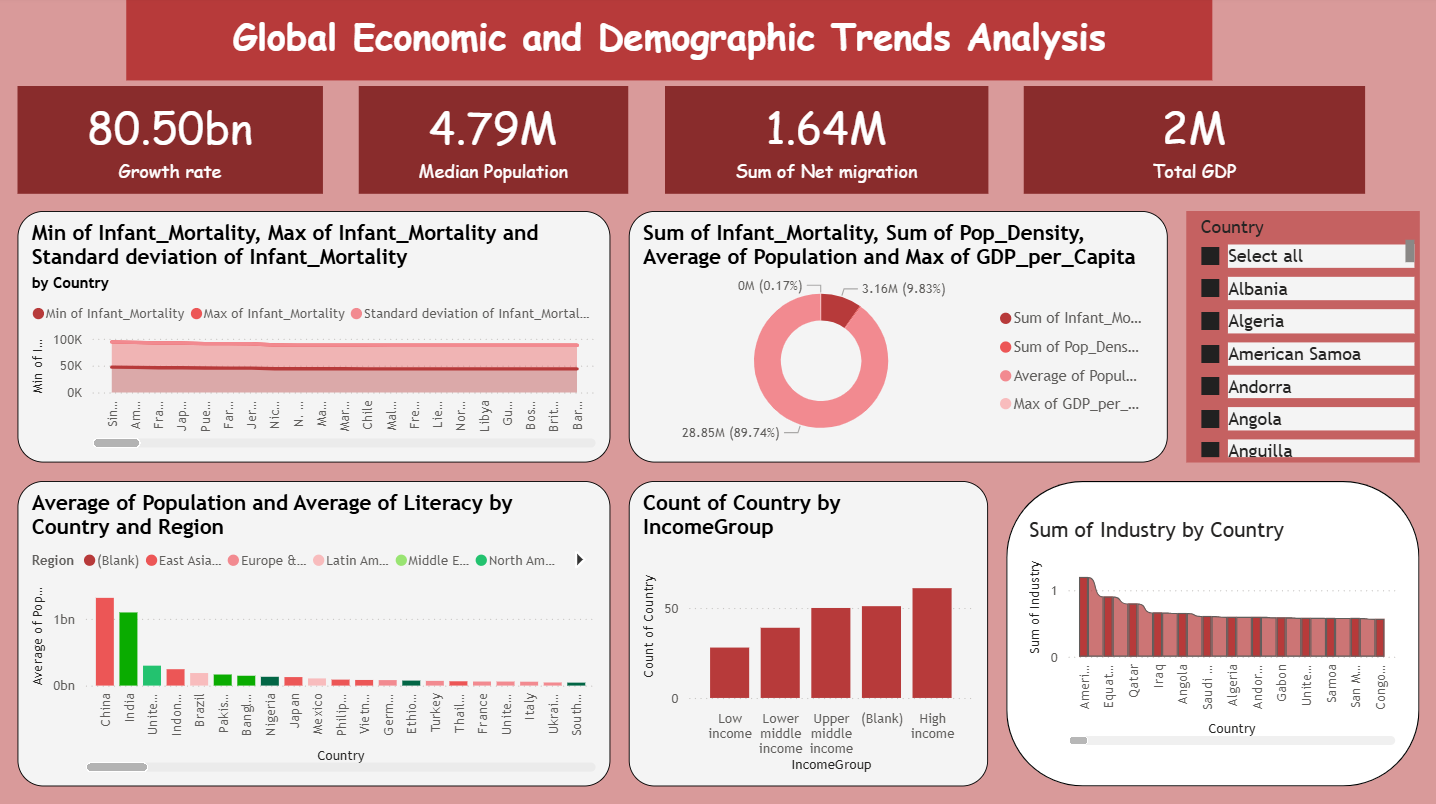

What the dashboard file says about the page in this screenshot:
{"tool":"powerbi","page":{"name":"DashBoard","canvas":[1280,720],"ordinal":0},"visuals":[{"type":"textbox","box":[112.5,0,967.4,75.5],"z":0},{"type":"card","fields":{"Values":["PopulationPerCountry.Growth rate"]},"box":[16,80,272,96],"z":1000},{"type":"card","fields":{"Values":["countries countries_world.Median Population"]},"box":[320,80,240,96],"z":2000},{"type":"card","fields":{"Values":["Sum(countries of the world.Net migration)"]},"box":[592,80,288,96],"z":3000},{"type":"card","fields":{"Values":["countries countries_world.Total GDP"]},"box":[912,80,304,96],"z":4000},{"type":"columnChart","fields":{"Category":["MetaData Country.Country"],"Y":["Avg(countries countries_world.Population)"],"Series":["MetaData Country.Region"]},"box":[16,432,528,272],"z":5000},{"type":"lineClusteredColumnComboChart","fields":{"Category":["MetaData Country.IncomeGroup"],"Y":["CountNonNull(countries of the world.Country)"]},"box":[560,432,320,272],"z":6000},{"type":"donutChart","fields":{"Y":["Sum(countries countries_world.Infant_Mortality)","Sum(countries countries_world.Pop_Density)","Avg(countries countries_world.Population)","Max(countries countries_world.GDP_per_Capita)"]},"box":[560,192,480,224],"z":7000},{"type":"stackedAreaChart","fields":{"Y":["Min(countries countries_world.Infant_Mortality)","Max(countries countries_world.Infant_Mortality)1","Sum(countries countries_world.Infant_Mortality)2"],"Category":["countries countries_world.Country"]},"box":[16,192,528,224],"z":8000},{"type":"slicer","fields":{"Values":["countries countries_world.Country"]},"box":[1056,192,208,224],"z":9000},{"type":"shape","box":[896,432,368,272],"z":10000},{"type":"ribbonChart","fields":{"Category":["countries countries_world.Country"],"Y":["Sum(countries countries_world.Industry)"]},"box":[912,464,336,208],"z":11000}]}

Visuals, with their boxes in screenshot pixels (x1, y1, x2, y2), scaled from the page's 1280x720 canvas onto the 1436x804 screenshot:
textbox: select_region(126, 0, 1212, 84)
card - PopulationPerCountry.Growth rate: select_region(18, 89, 323, 197)
card - countries countries_world.Median Population: select_region(359, 89, 628, 197)
card - Sum(countries of the world.Net migration): select_region(664, 89, 987, 197)
card - countries countries_world.Total GDP: select_region(1023, 89, 1364, 197)
columnChart - MetaData Country.Country x Avg(countries countries_world.Population): select_region(18, 482, 610, 786)
lineClusteredColumnComboChart - MetaData Country.IncomeGroup x CountNonNull(countries of the world.Country): select_region(628, 482, 987, 786)
donutChart - Sum(countries countries_world.Infant_Mortality) x Sum(countries countries_world.Pop_Density): select_region(628, 214, 1167, 465)
stackedAreaChart - Min(countries countries_world.Infant_Mortality) x Max(countries countries_world.Infant_Mortality)1: select_region(18, 214, 610, 465)
slicer - countries countries_world.Country: select_region(1185, 214, 1418, 465)
shape: select_region(1005, 482, 1418, 786)
ribbonChart - countries countries_world.Country x Sum(countries countries_world.Industry): select_region(1023, 518, 1400, 750)
